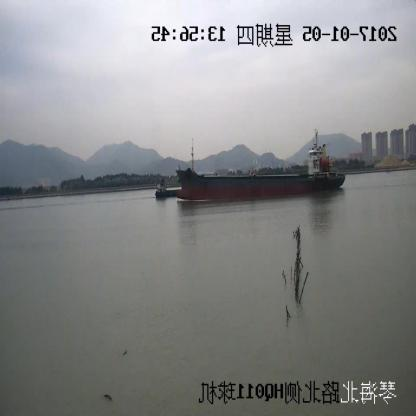Bulk Carrier: (177, 130, 348, 201)
